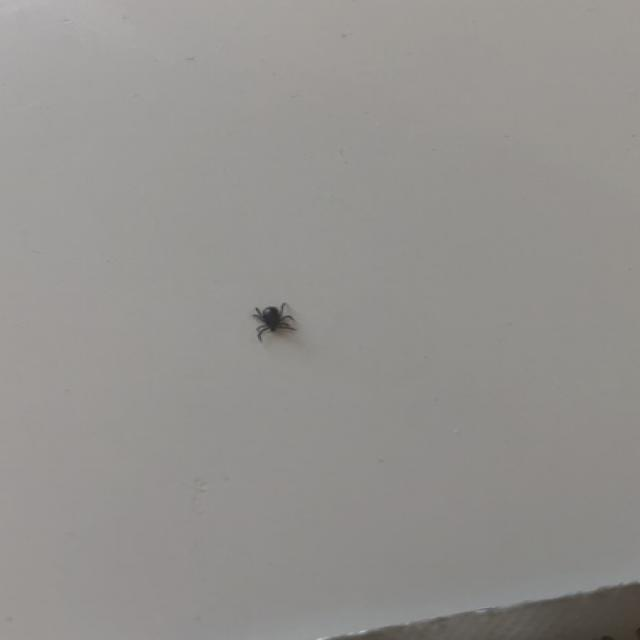Ixodes Ricinus-M: (247, 302, 299, 344)
